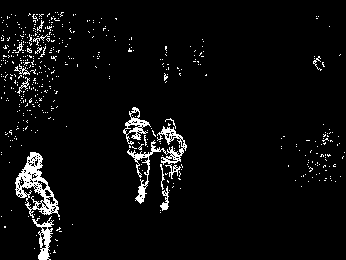person: (16, 152, 60, 259), (150, 116, 188, 212), (124, 106, 157, 203)
